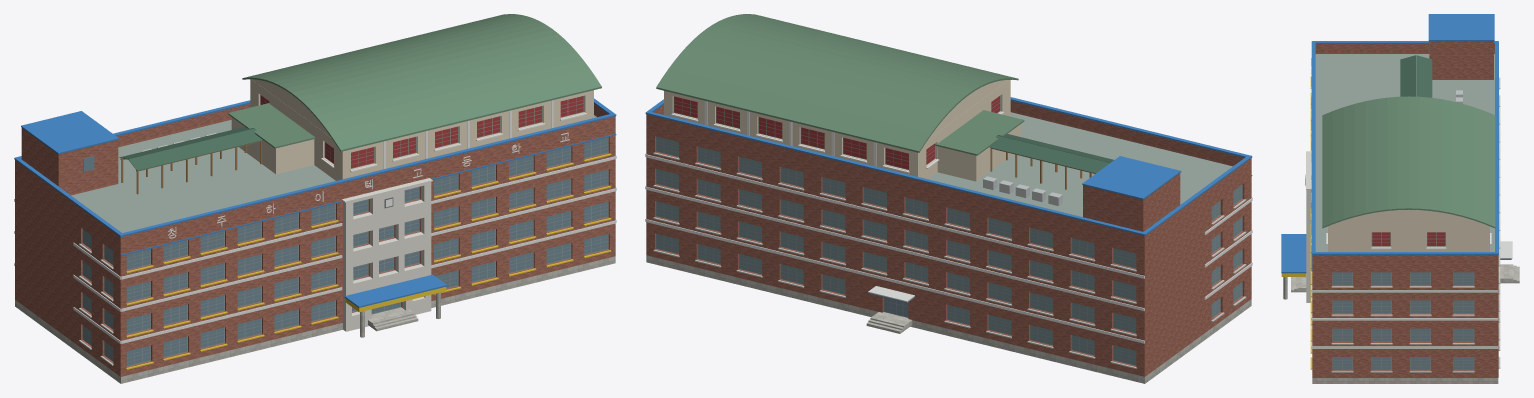
3 renders of one model, left to right at view 1: azimuth 30°, elevation 25°; view 2: azimuth 150°, elevation 25°; view 3: azimuth 270°, elevation 25°, orthographic. The views are drawn at different scales.
Parts seen in each view (by area): view 1: main__redbrick, main__greenroof, main__glass, main__roof, main__frame, main__setbackwall, main__blue, main__projwall, main__band, main__stone, main__yellow, main__curtain (+4 smaller); view 2: main__redbrick, main__greenroof, main__sideglass, main__roof, main__frame, main__setbackwall, main__band, main__blue, main__stone, main__sill, main__curtain, main__canopyglass (+1 smaller); view 3: main__redbrick, main__greenroof, main__roof, main__blue, main__setbackwall, main__sideglass, main__frame, main__band, main__sill, main__canopyglass, main__stone, main__projwall (+3 smaller).
Part boxes in pixels (bbox=[...]): main__redbrick: bbox=[15, 104, 615, 376]; main__greenroof: bbox=[228, 14, 601, 151]; main__glass: bbox=[83, 137, 607, 365]; main__roof: bbox=[71, 115, 596, 232]; main__frame: bbox=[82, 95, 608, 366]; main__setbackwall: bbox=[231, 79, 593, 180]; main__blue: bbox=[14, 98, 616, 307]; main__projwall: bbox=[341, 178, 432, 331]; main__band: bbox=[14, 100, 616, 343]; main__stone: bbox=[15, 256, 615, 383]; main__yellow: bbox=[126, 153, 611, 369]; main__curtain: bbox=[260, 95, 583, 168]; main__redbrick: bbox=[646, 101, 1251, 376]; main__greenroof: bbox=[656, 14, 1024, 155]; main__sideglass: bbox=[656, 136, 1242, 364]; main__roof: bbox=[928, 112, 1232, 216]; main__frame: bbox=[656, 96, 1242, 365]; main__setbackwall: bbox=[664, 80, 1020, 181]; main__band: bbox=[645, 101, 1252, 343]; main__blue: bbox=[645, 97, 1252, 235]; main__stone: bbox=[646, 255, 1251, 383]; main__sill: bbox=[653, 152, 1246, 368]; main__curtain: bbox=[674, 96, 999, 169]; main__canopyglass: bbox=[989, 134, 1113, 173]; main__redbrick: bbox=[1312, 41, 1498, 377]; main__greenroof: bbox=[1322, 96, 1495, 228]; main__roof: bbox=[1315, 54, 1494, 251]; main__blue: bbox=[1281, 14, 1498, 273]; main__setbackwall: bbox=[1328, 210, 1489, 251]; main__sideglass: bbox=[1333, 272, 1473, 369]; main__frame: bbox=[1332, 232, 1474, 370]; main__band: bbox=[1311, 89, 1499, 348]; main__sill: bbox=[1331, 77, 1500, 372]; main__canopyglass: bbox=[1400, 55, 1432, 97]; main__stone: bbox=[1283, 277, 1498, 383]; main__projwall: bbox=[1306, 151, 1311, 302].
Size of the model in its own units: 58.4 by 21.94 by 27.57.
23 materials, 2 textured.
